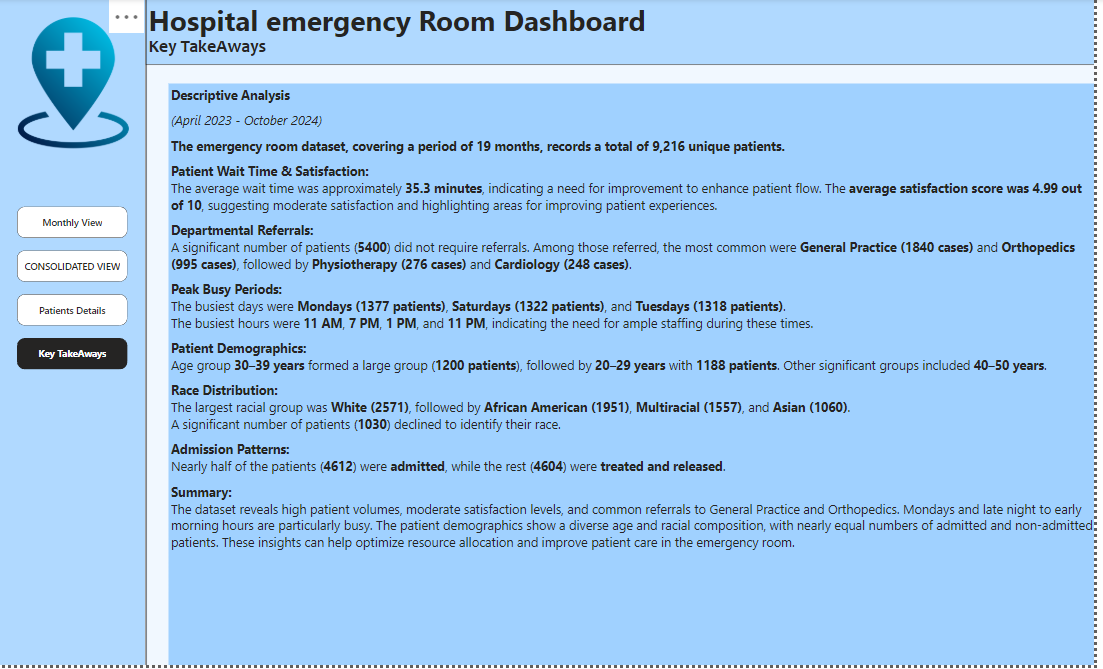

The dashboard page shown, as its layout file describes it:
{"tool":"powerbi","page":{"name":"Key TakeAways","canvas":[2300,1400],"ordinal":3},"visuals":[{"type":"shape","box":[0,0,310,1401.1],"z":0},{"type":"shape","box":[308.6,0,1993,140],"z":1000},{"type":"textbox","box":[308.6,0,1070.5,107],"z":2000},{"type":"textbox","box":[308.6,72.4,585.6,69.3],"z":3000},{"type":"image","box":[12.6,25.2,286.5,305.4],"z":5000},{"type":"textbox","box":[355.8,179.5,1945.8,1221.6],"z":5001},{"type":"pageNavigator","box":[37.8,437.6,233,343.2],"z":5002}]}

Visuals, with their boxes on the page's 2300x1400 design canvas (x1, y1, x2, y2). These are canvas units, not pixel positions in the 1103x669 screenshot, which may show the page scaled, cropped or inside an application window:
shape: (0,0,310,1401)
shape: (309,0,2302,140)
textbox: (309,0,1379,107)
textbox: (309,72,894,142)
image: (13,25,299,331)
textbox: (356,180,2302,1401)
pageNavigator: (38,438,271,781)
